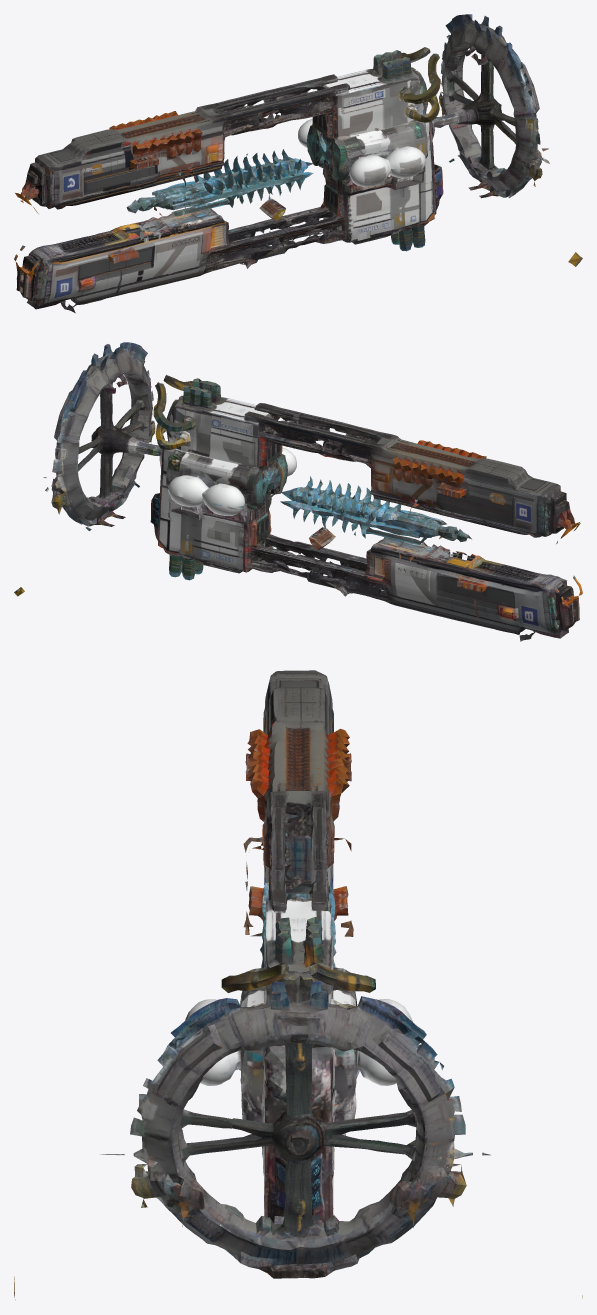
Rendered from shipyard-BkREEhAz.glb.
3 renders of one model, top to bottom at view 1: azimuth 30°, elevation 25°; view 2: azimuth 150°, elevation 25°; view 3: azimuth 270°, elevation 25°, orthographic. The views are drawn at different scales.
Visible parts, largest first — view 1: output; view 2: output; view 3: output.
Part boxes in pixels (x1=…): output: x1=14, y1=14, x2=582, y2=313; output: x1=14, y1=342, x2=582, y2=641; output: x1=14, y1=670, x2=582, y2=1299.
Bounding box in the file's own units: 1.91 × 0.759 × 1.14.
Materials: 1 (1 with a texture image).
